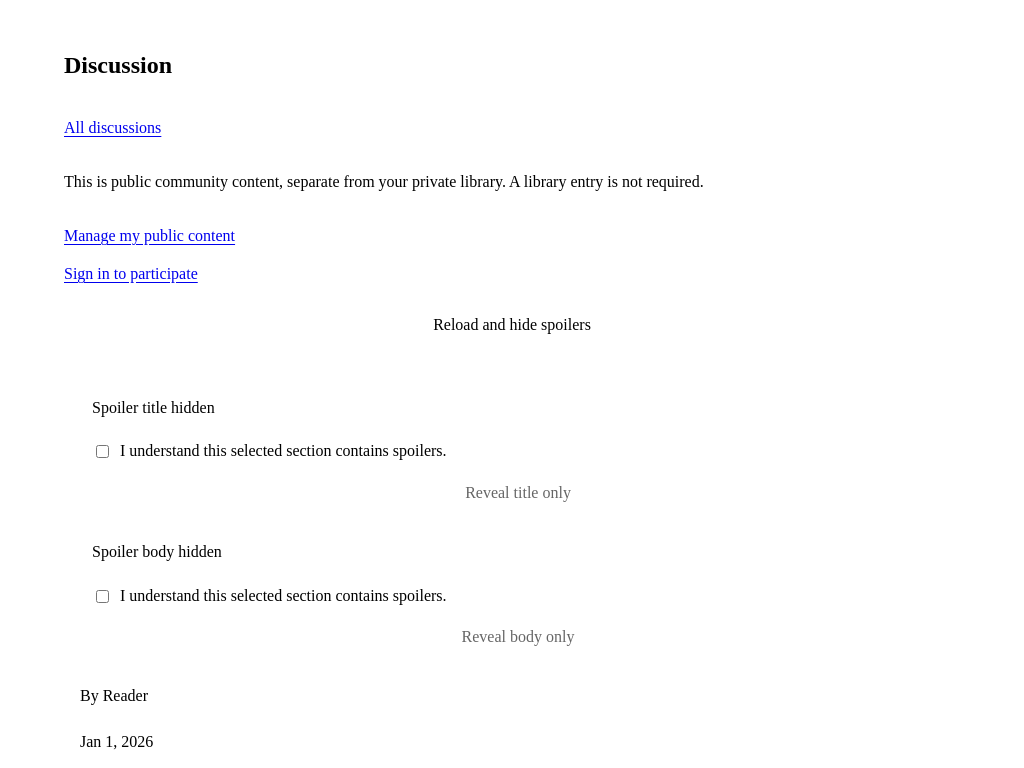
Test: spoiler delivery › revealing parent never reveals its body or independently masked child
Click the checkbox labelled "I understand this selected section contains spoilers." below "Spoiler title hidden" at {"x": 102, "y": 452}, box [96,445,109,458]
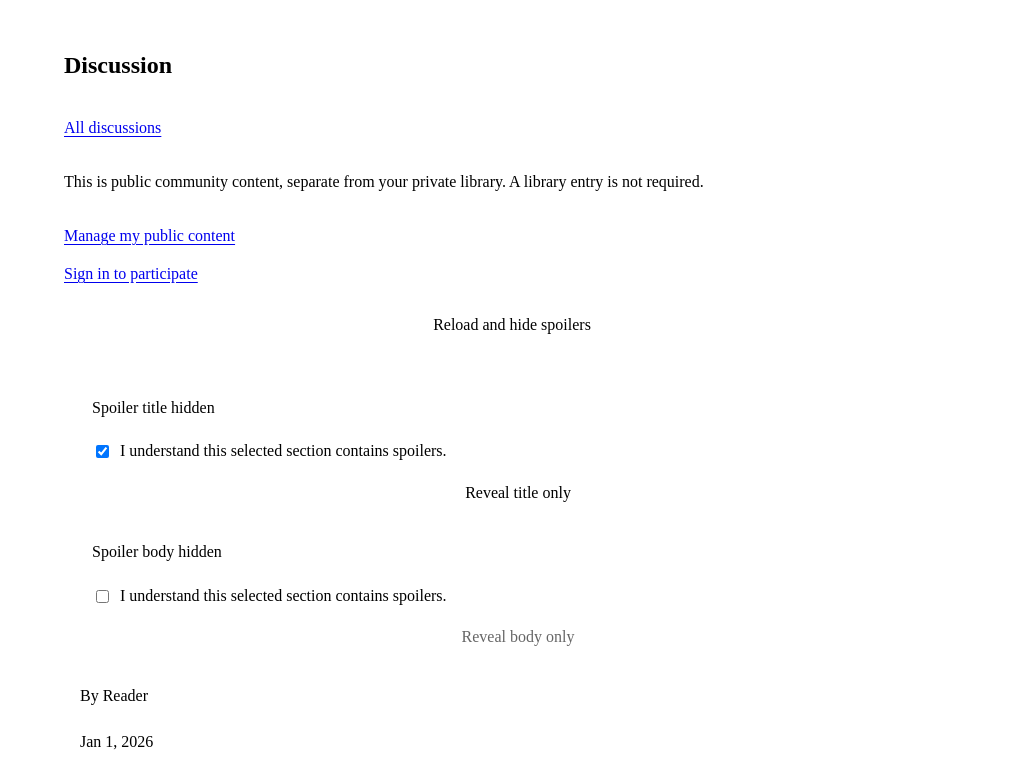
Click the button "Reveal title only" at {"x": 518, "y": 493}, box [92,471,944,515]
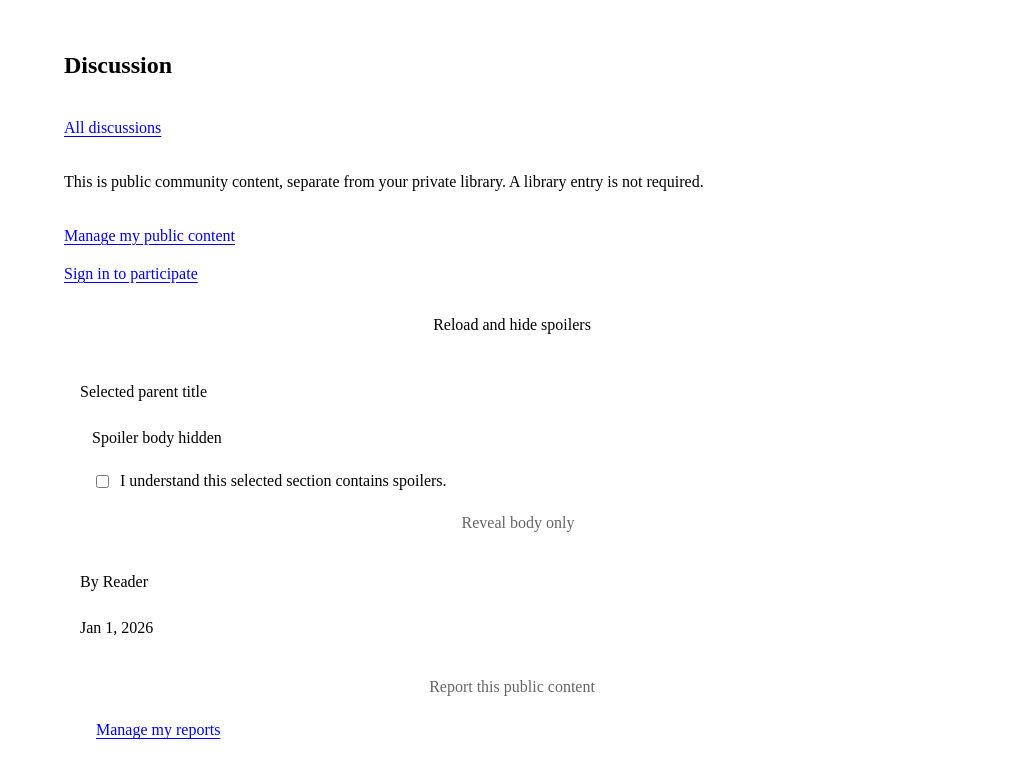
Result: the text "Selected parent title" is shown at [80,383,207,400]
Result: the text "Spoiler body hidden" is shown 2 times
